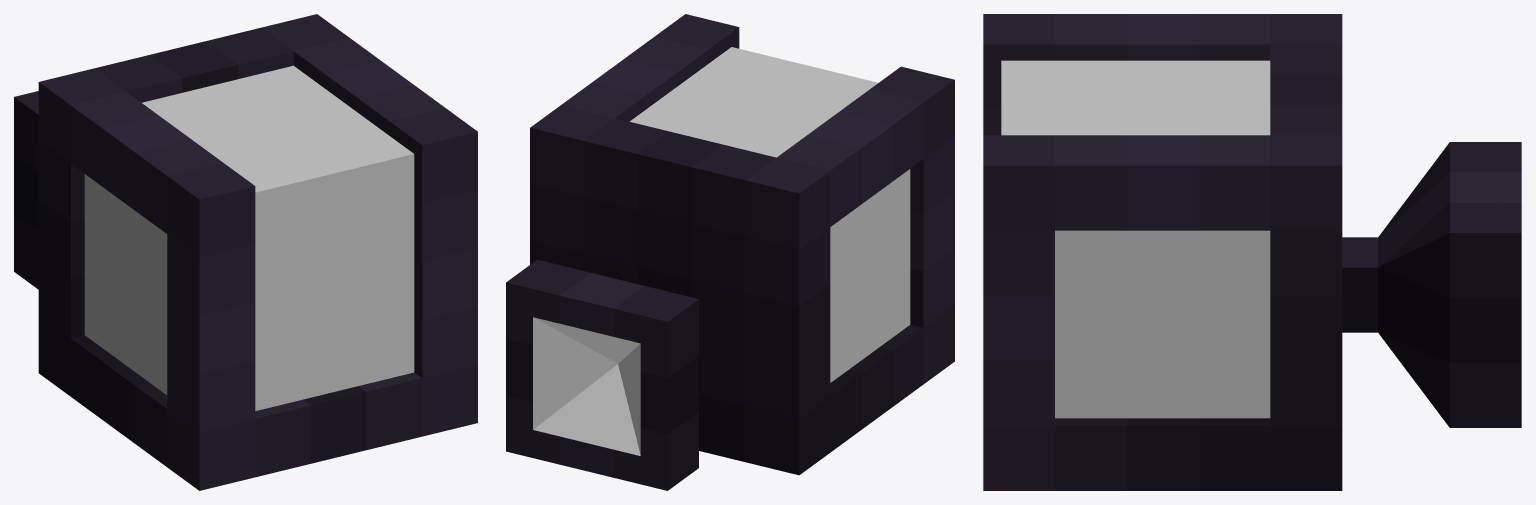
The model's file is head_doot.obj.
The picture shows the model from 3 angles, left to right: view 1: azimuth 30°, elevation 25°; view 2: azimuth 150°, elevation 25°; view 3: azimuth 270°, elevation 25°; orthographic projection. The views are drawn at different scales.
Parts seen in each view (by area): view 1: HEAD_DOOT_Cube.032; view 2: HEAD_DOOT_Cube.032; view 3: HEAD_DOOT_Cube.032.
Part boxes in pixels (x1,y1,x2,y2): HEAD_DOOT_Cube.032: (14, 14, 477, 490); HEAD_DOOT_Cube.032: (506, 14, 954, 490); HEAD_DOOT_Cube.032: (983, 14, 1521, 490).
Size of the model in its own units: 0.3125 by 0.3125 by 0.4688.
